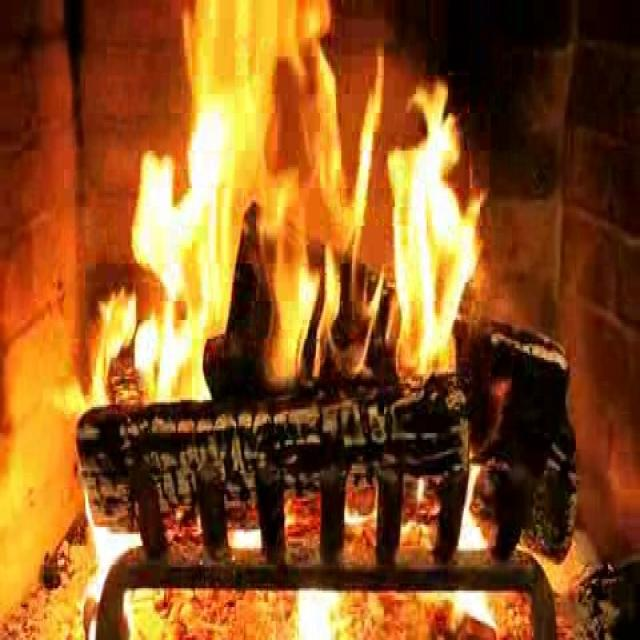fire: (136, 10, 488, 382)
